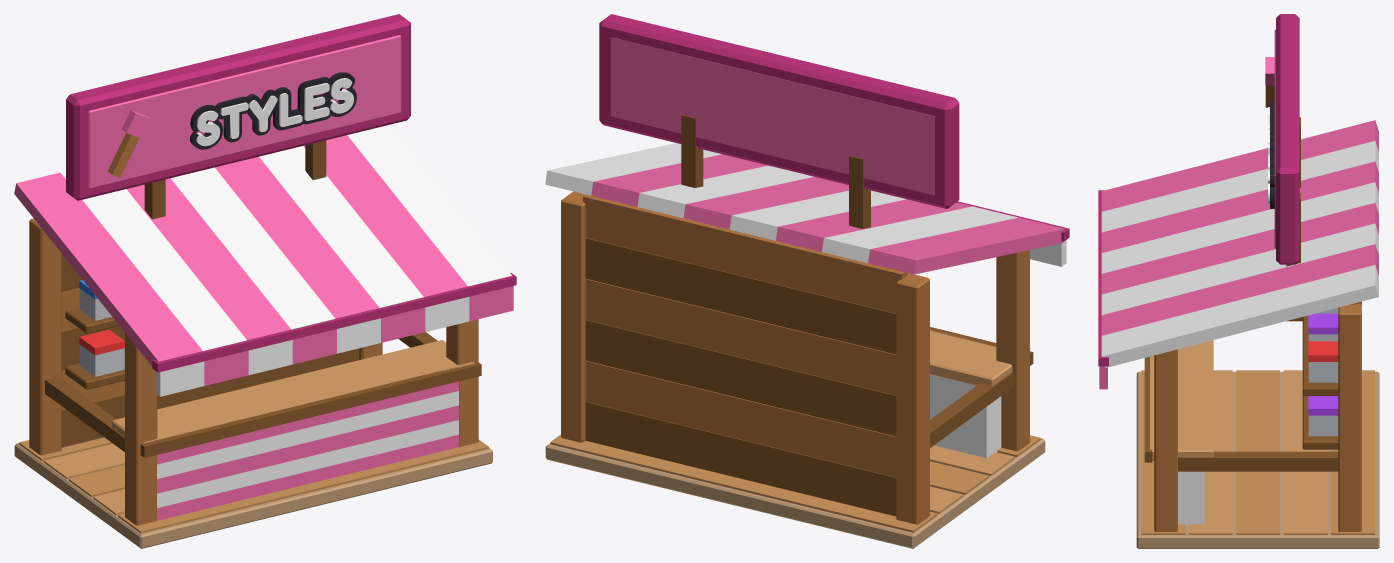
Rendered from shop_styles.fbx.
3 views of the same model, side by side, from view 1: azimuth 30°, elevation 25°; view 2: azimuth 150°, elevation 25°; view 3: azimuth 270°, elevation 25° (orthographic). The views are drawn at different scales.
Parts seen in each view (by area): view 1: Cube.068, Cube.067, Cube.048, Cube.046, Cube.049, Cube.051, Cube.055, Cube.052, Cube.053, Cube.054, Cube, Cube.050 (+35 smaller); view 2: Cube.068, Cube.067, Cube.015, Cube.011, Cube.012, Cube.013, Cube.014, Cube.010, Cube, Cube.007, Cube.009, Cube.048 (+17 smaller); view 3: Cube.055, Cube, Cube.003, Cube.067, Cube.054, Cube.053, Cube.009, Cube.052, Cube.051, Cube.050, Cube.048, Cube.049 (+19 smaller).
Boxes of the visible parts, left/top/right/bottom form: Cube.068: left=88, top=35, right=401, bottom=188; Cube.067: left=66, top=14, right=410, bottom=200; Cube.048: left=14, top=172, right=202, bottom=371; Cube.046: left=112, top=340, right=474, bottom=443; Cube.049: left=60, top=171, right=246, bottom=351; Cube.051: left=170, top=167, right=335, bottom=329; Cube.055: left=347, top=124, right=511, bottom=286; Cube.052: left=215, top=156, right=379, bottom=318; Cube.053: left=259, top=146, right=423, bottom=307; Cube.054: left=303, top=135, right=467, bottom=297; Cube: left=14, top=443, right=492, bottom=548; Cube.050: left=126, top=178, right=291, bottom=340; Cube.068: left=610, top=37, right=934, bottom=195; Cube.067: left=599, top=14, right=959, bottom=208; Cube.015: left=583, top=194, right=907, bottom=313; Cube.011: left=585, top=360, right=896, bottom=477; Cube.012: left=585, top=320, right=896, bottom=436; Cube.013: left=585, top=279, right=896, bottom=395; Cube.014: left=585, top=238, right=896, bottom=354; Cube.010: left=585, top=401, right=896, bottom=516; Cube: left=545, top=438, right=1045, bottom=548; Cube.007: left=896, top=273, right=929, bottom=524; Cube.009: left=561, top=191, right=585, bottom=442; Cube.048: left=868, top=217, right=1064, bottom=274; Cube.055: left=1101, top=265, right=1378, bottom=367; Cube: left=1136, top=371, right=1379, bottom=548; Cube.003: left=1236, top=370, right=1279, bottom=534; Cube.067: left=1276, top=14, right=1299, bottom=264; Cube.054: left=1101, top=244, right=1378, bottom=335; Cube.053: left=1101, top=223, right=1378, bottom=314; Cube.009: left=1338, top=304, right=1361, bottom=531; Cube.052: left=1101, top=203, right=1378, bottom=294; Cube.051: left=1101, top=182, right=1378, bottom=273; Cube.050: left=1101, top=161, right=1378, bottom=252; Cube.048: left=1101, top=120, right=1378, bottom=211; Cube.049: left=1101, top=141, right=1378, bottom=232.
Size of the model in its own units: 13.4 by 14 by 9.49.
